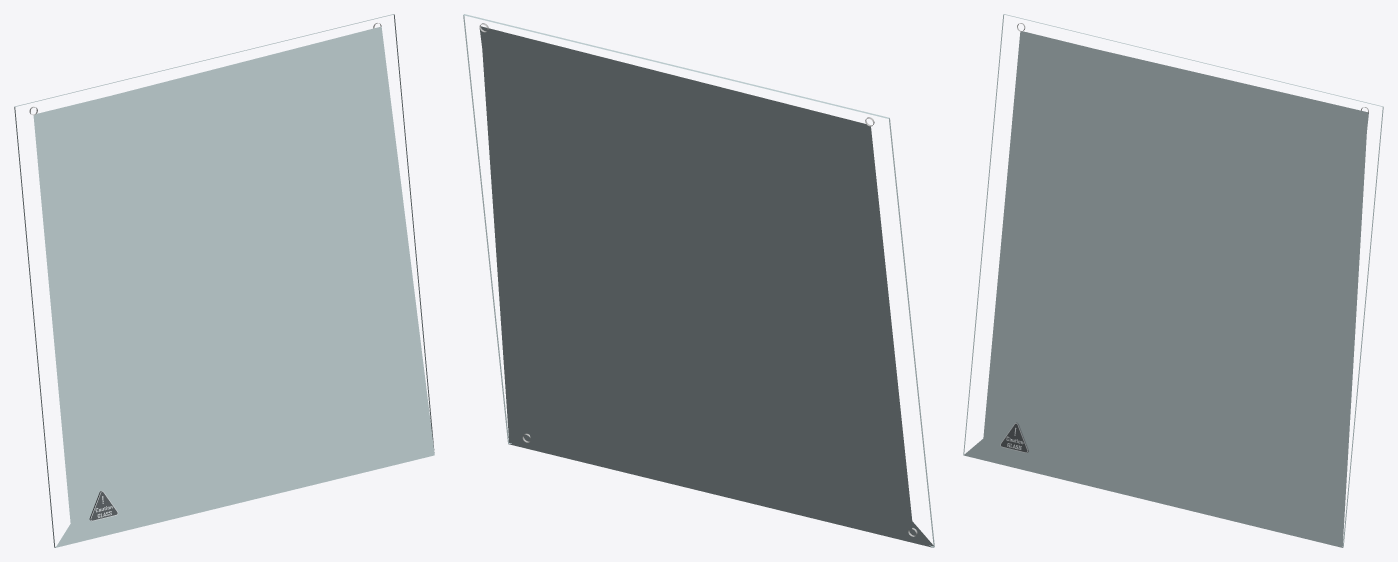
Rendered from untitled_glos.fbx.
The picture shows the model from 3 angles, left to right: view 1: azimuth 30°, elevation 25°; view 2: azimuth 150°, elevation 25°; view 3: azimuth 330°, elevation 25°; orthographic projection. The views are drawn at different scales.
Visible parts, largest first — view 1: typeMesh4; view 2: typeMesh4; view 3: typeMesh4.
Boxes of the visible parts, bbox=[...] form: typeMesh4: bbox=[14, 14, 434, 547]; typeMesh4: bbox=[463, 14, 934, 547]; typeMesh4: bbox=[963, 14, 1383, 547].
Bounding box in the file's own units: 5.64 × 5.85 × 1.06.
